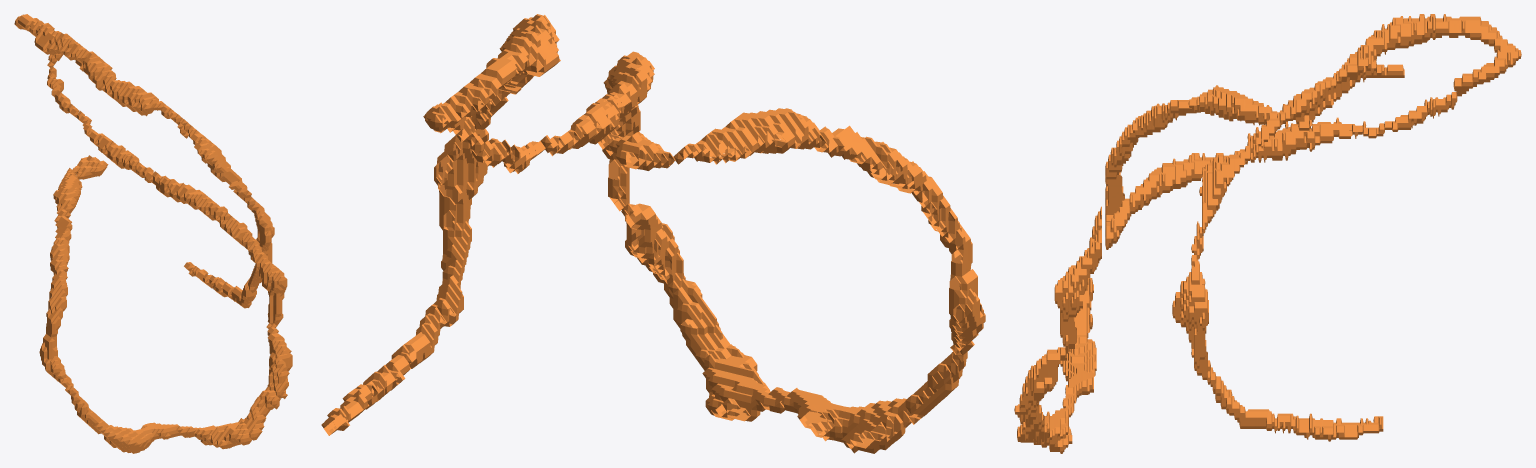
File: SVV_RIAL_t0.obj
3 renders of one model, left to right at view 1: azimuth 30°, elevation 25°; view 2: azimuth 150°, elevation 25°; view 3: azimuth 270°, elevation 25°, orthographic. The views are drawn at different scales.
Visible parts, largest first — view 1: RIAL; view 2: RIAL; view 3: RIAL.
Boxes of the visible parts, box(x1,y1,x2,y2) form: RIAL: box(14, 14, 292, 453); RIAL: box(321, 14, 985, 453); RIAL: box(1014, 14, 1521, 453).
Bounding box in the file's own units: 735 × 859 × 955.
